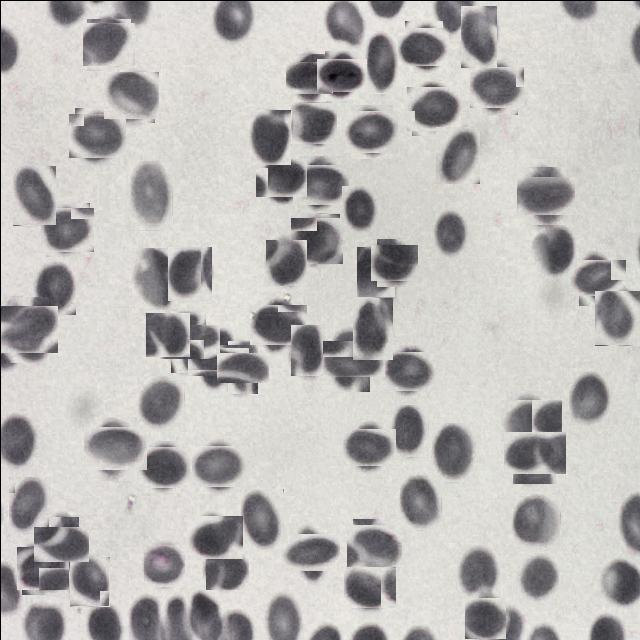red blood cell: (131, 247, 178, 312), (0, 301, 53, 358), (130, 160, 172, 230), (88, 420, 142, 474), (504, 394, 556, 447), (508, 426, 560, 478), (240, 488, 283, 550), (431, 422, 476, 481), (324, 332, 376, 383), (104, 69, 156, 120), (12, 165, 56, 225), (512, 493, 560, 548), (71, 110, 122, 161), (594, 290, 640, 345), (435, 126, 479, 183), (408, 82, 458, 132), (189, 512, 239, 562), (138, 375, 184, 429), (352, 297, 392, 359), (167, 246, 212, 301), (42, 204, 92, 253), (292, 214, 341, 264), (520, 170, 569, 220), (568, 370, 611, 426), (253, 300, 302, 349), (345, 560, 394, 609), (349, 521, 398, 570), (399, 474, 441, 530), (8, 476, 49, 533), (472, 62, 520, 110), (18, 544, 66, 592), (347, 107, 395, 155), (84, 20, 132, 68), (296, 160, 344, 208), (286, 528, 334, 576), (164, 317, 212, 365), (33, 260, 75, 314), (140, 442, 187, 490), (249, 109, 290, 164), (460, 5, 496, 67), (195, 442, 242, 489), (364, 29, 398, 93), (573, 254, 620, 300), (384, 348, 432, 393), (346, 423, 392, 469), (194, 336, 240, 382), (517, 552, 559, 602), (458, 546, 498, 598), (400, 23, 446, 68), (258, 155, 303, 200), (38, 520, 82, 566), (390, 404, 428, 457), (69, 556, 109, 606), (291, 101, 335, 145), (204, 546, 248, 590), (145, 312, 189, 356), (356, 246, 394, 296), (265, 239, 306, 285), (532, 228, 573, 274), (341, 185, 377, 236), (143, 544, 185, 586), (373, 241, 415, 283), (464, 596, 505, 638), (221, 346, 263, 387), (430, 208, 466, 254), (290, 324, 322, 375), (289, 56, 329, 96)
ring: (320, 54, 362, 96)
